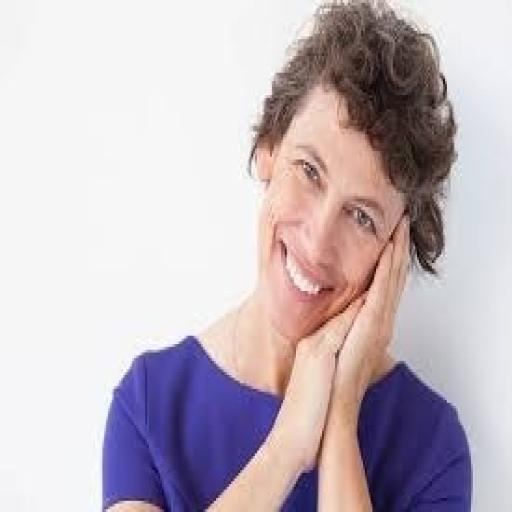sleeping: (98, 0, 474, 509)
